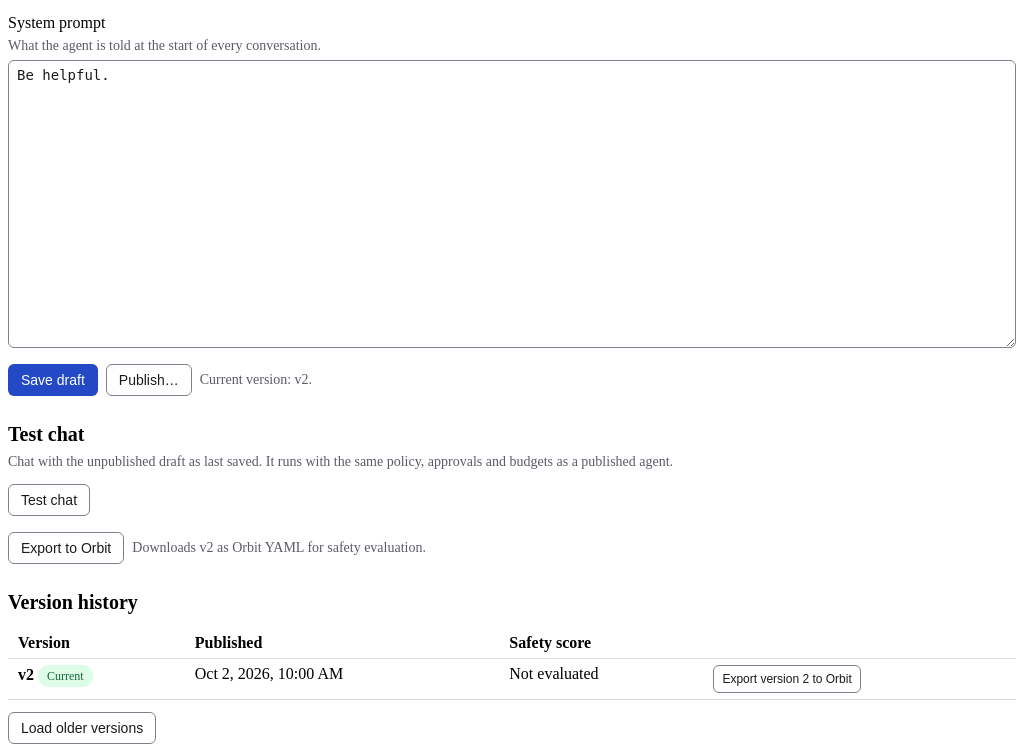
Agent builder: version history › loads older versions on request
(page scrolled)
Click the button "Load older versions": x=82, y=728 8,712 -> 156,744
(page scrolled)
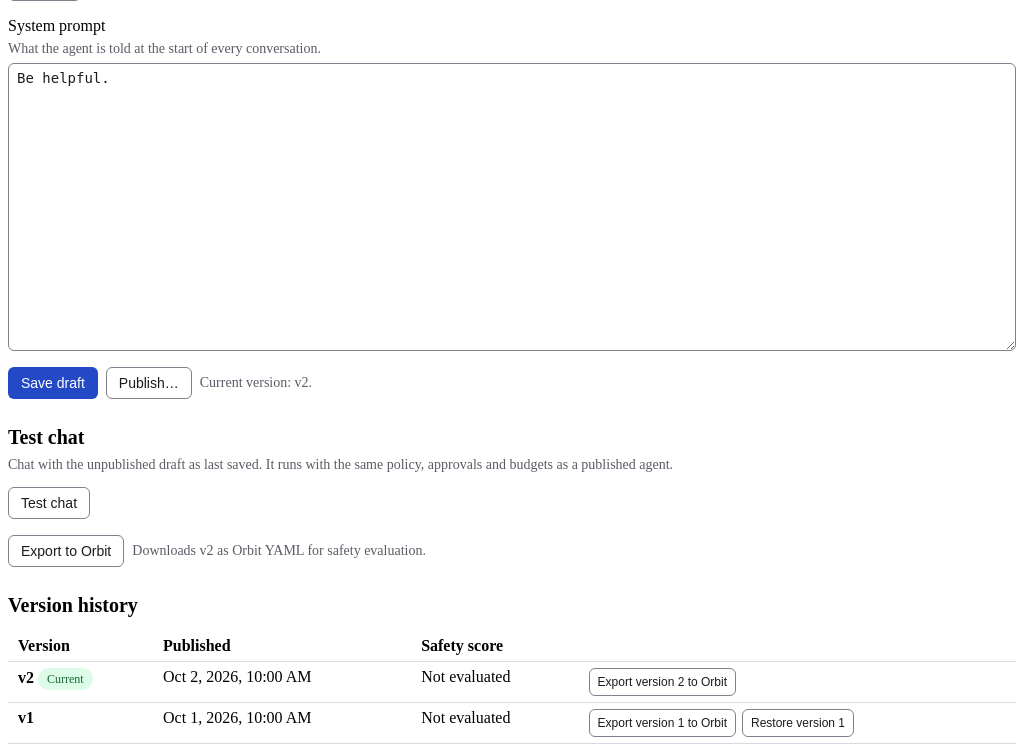
Expected: the button "Restore version 1" is shown, 742,708 -> 854,736
Expected: the button "Load older versions" is gone
